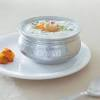curd_rice: (12, 12, 89, 64)
